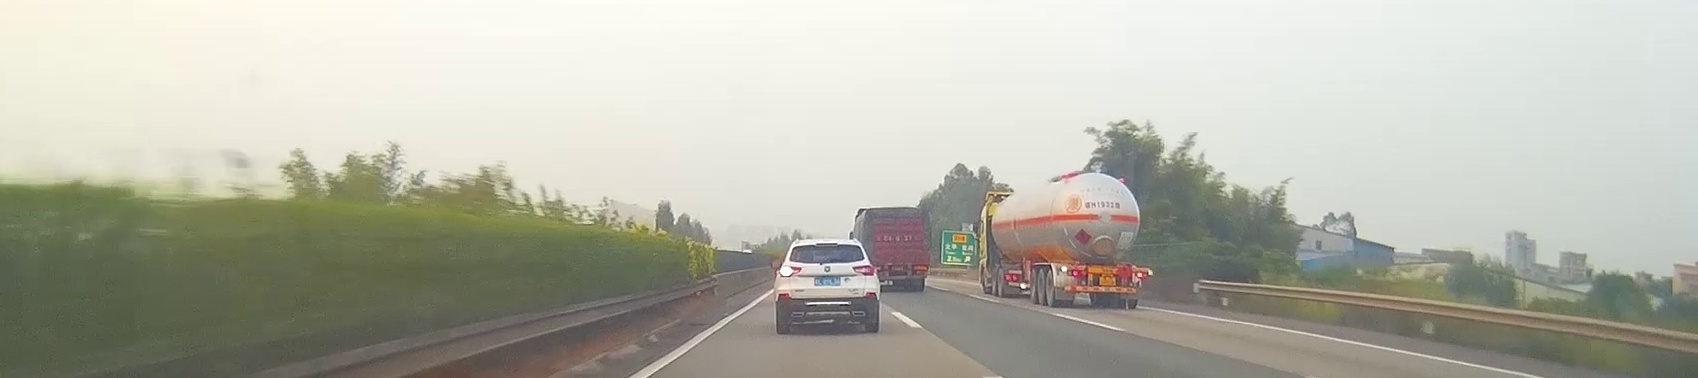L_light: (780, 265, 802, 277), (1066, 270, 1083, 276)
R_light: (853, 265, 874, 275), (1134, 273, 1145, 278)
T_light: (817, 242, 839, 246), (1102, 268, 1114, 271)
day-brake: (1052, 263, 1152, 309)
day-left: (775, 238, 881, 333)
